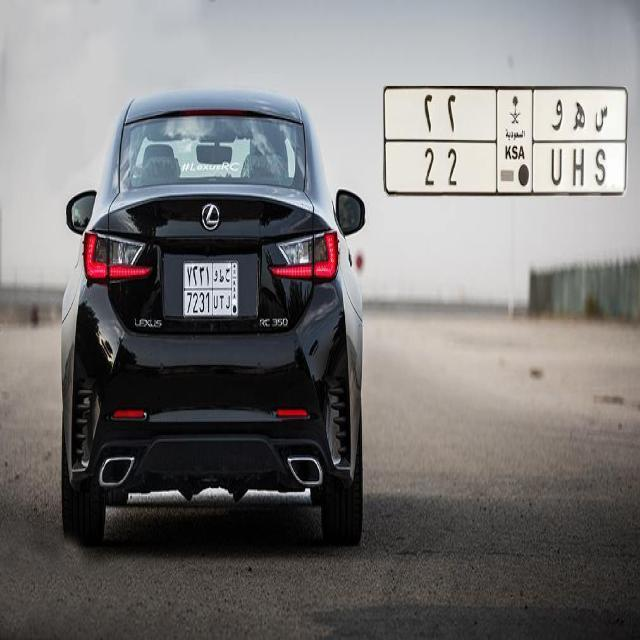license_plate: (381, 134, 628, 198), (183, 288, 234, 322)
